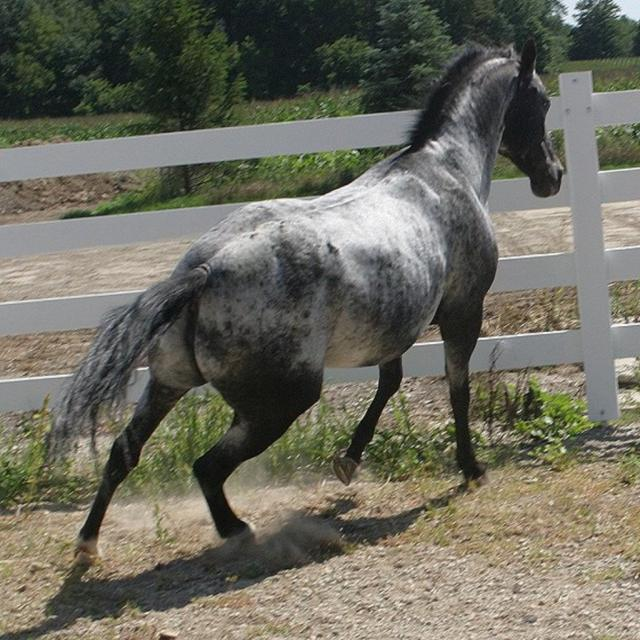Horse: (39, 35, 564, 566)
